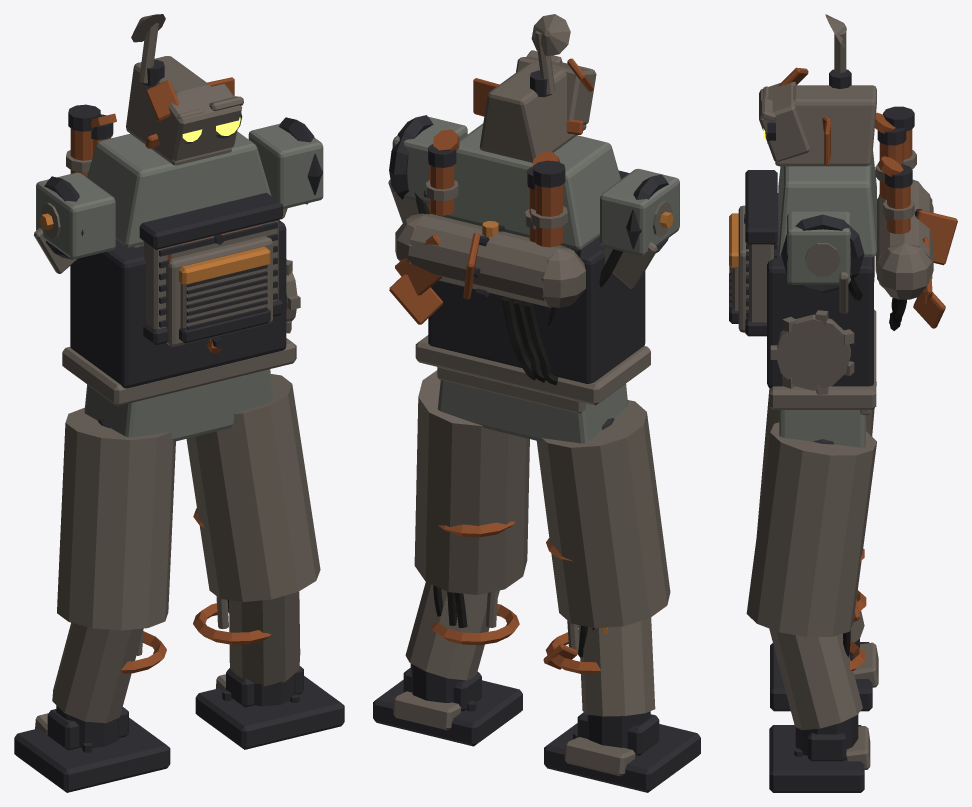
The model's file is ch_skirmisher.glb.
The picture shows the model from 3 angles, left to right: view 1: azimuth 30°, elevation 25°; view 2: azimuth 150°, elevation 25°; view 3: azimuth 270°, elevation 25°; orthographic projection. The views are drawn at different scales.
Visible parts, largest first — view 1: ch_skirmisher, limb_leg_l, limb_leg_r; view 2: ch_skirmisher, limb_leg_l, limb_leg_r; view 3: ch_skirmisher, limb_leg_r, limb_leg_l.
Boxes of the visible parts, <box> form: ch_skirmisher: <box>34,14,323,441</box>; limb_leg_l: <box>14,407,175,792</box>; limb_leg_r: <box>186,374,344,749</box>; ch_skirmisher: <box>388,14,679,443</box>; limb_leg_l: <box>536,400,700,792</box>; limb_leg_r: <box>373,370,529,746</box>; ch_skirmisher: <box>729,14,957,447</box>; limb_leg_r: <box>746,422,876,792</box>; limb_leg_l: <box>756,382,878,711</box>.
Bounding box in the file's own units: 0.3269 × 0.8125 × 0.24.
